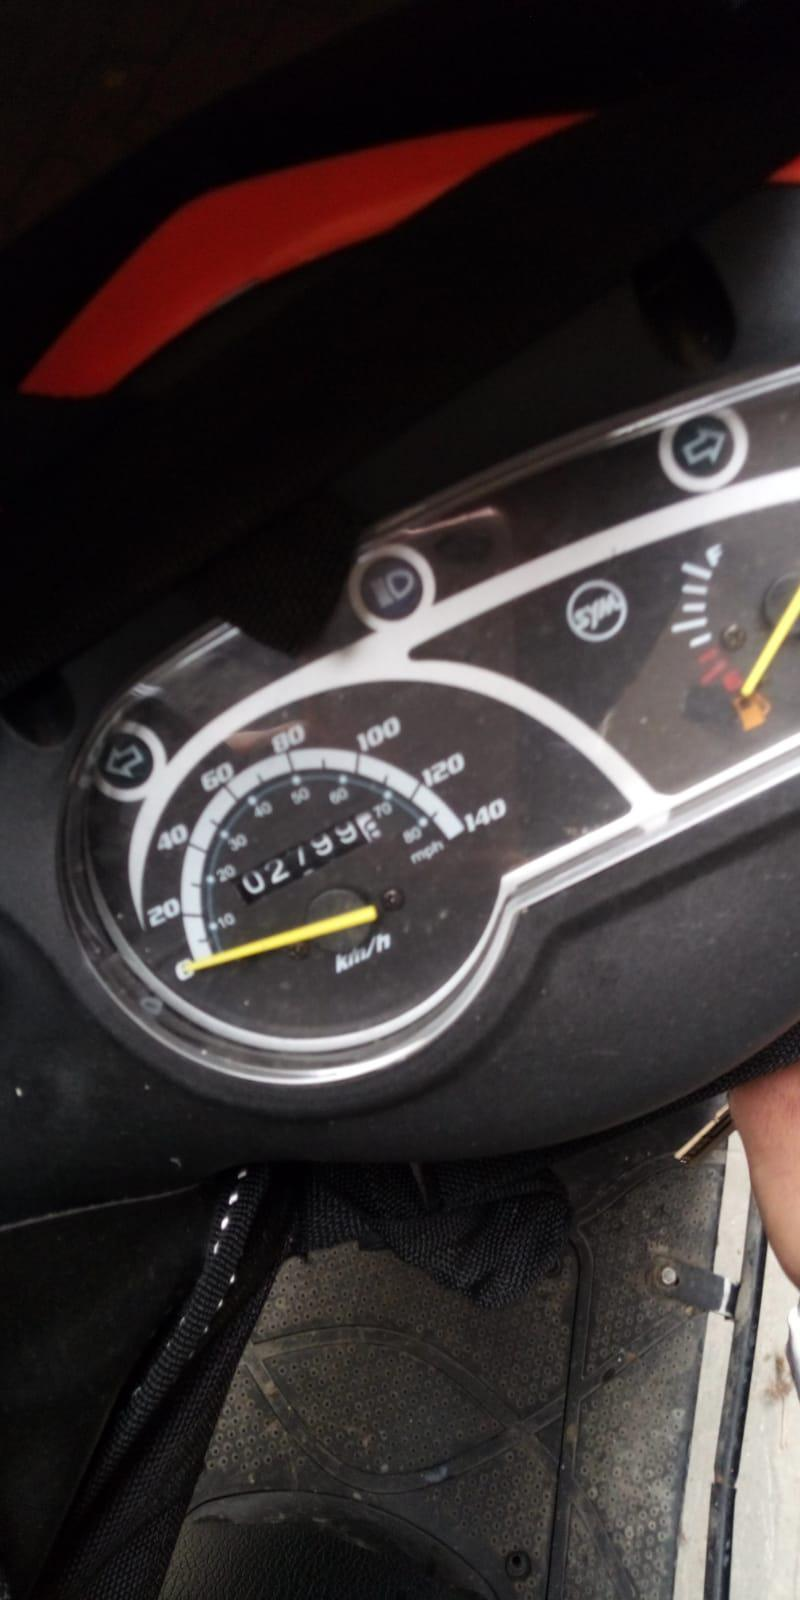0: (240, 870, 266, 898), (235, 832, 249, 847), (224, 863, 237, 877), (261, 801, 272, 814)
2: (263, 856, 292, 884)
3: (228, 839, 239, 853)
4: (254, 806, 262, 818)
7: (285, 843, 309, 870), (373, 804, 383, 819)
8: (362, 819, 385, 845)
9: (332, 817, 359, 846), (308, 830, 334, 859)
odometer: (224, 806, 393, 908)
